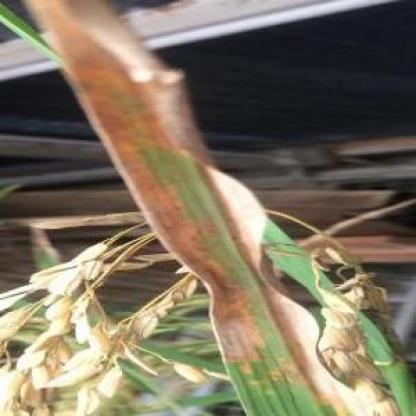Blight: (44, 1, 414, 416)
